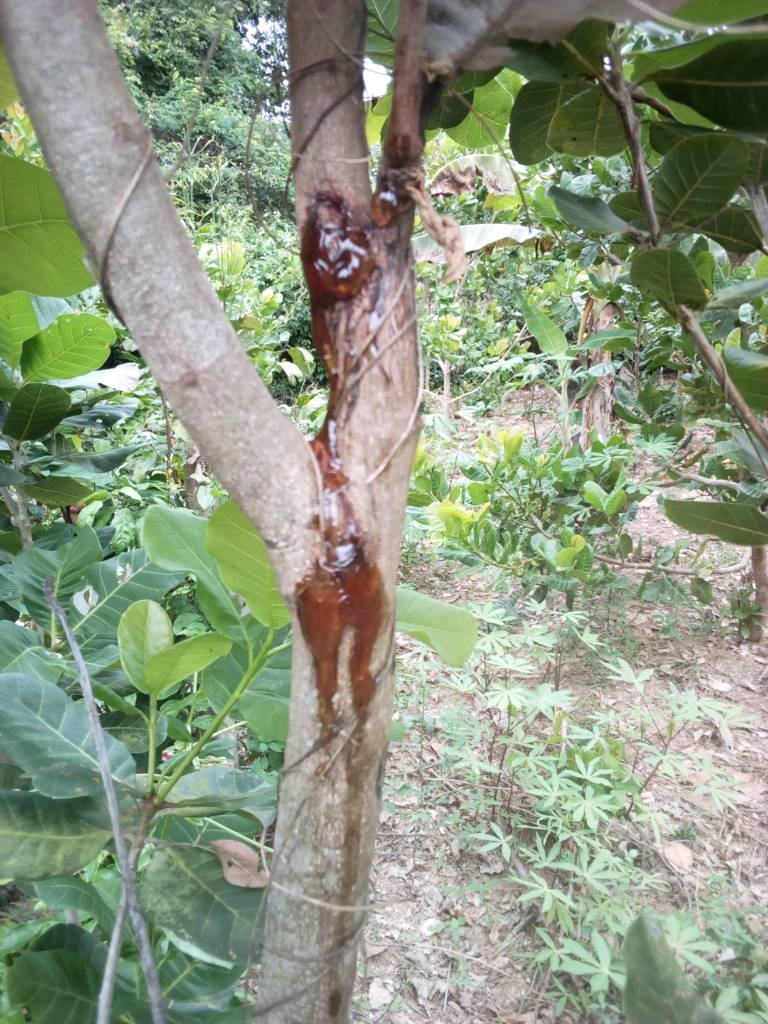Gommose: (302, 447, 385, 746), (300, 182, 397, 402)
